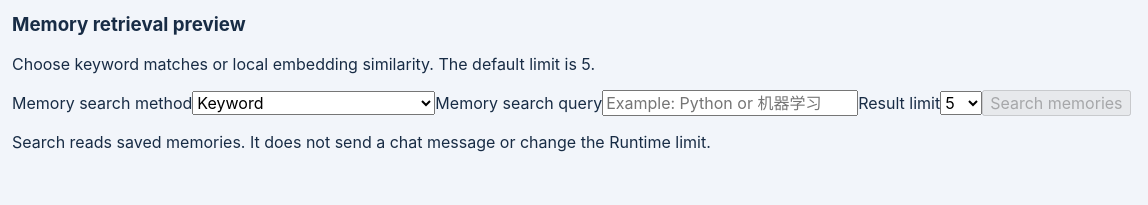
it: rejects invalid semantic result {"agent_id":8,"query":"Keep it brief.","limit":5,"mode":"semantic","provider":"mock","model":"mock-fixtures-v1","runtime_mode":"
Select "Semantic (local embeddings)" in the dropdown labelled "Memory search method" at (314, 103), box [192,91,435,115]
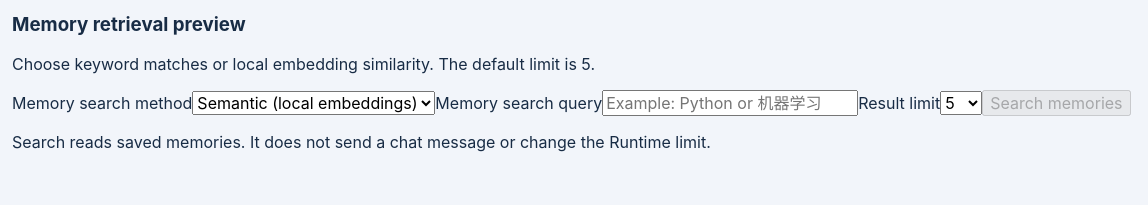
Type "  Keep it brief.  " into the field labelled "Memory search query" at (730, 103), box [602,90,858,116]
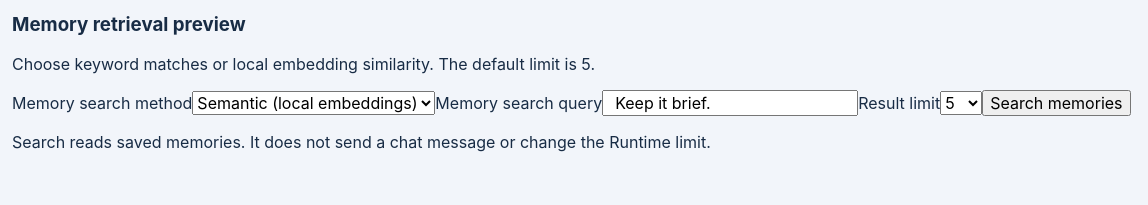
Click the button "Search memories" at (1056, 103), box [982,90,1131,116]
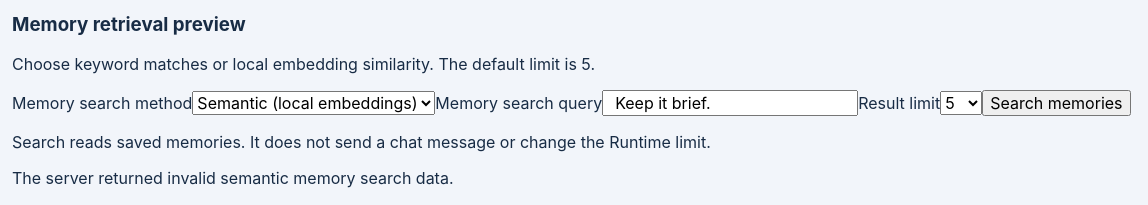
Check: the message shows "invalid semantic memory search data", box [12,168,454,188]
